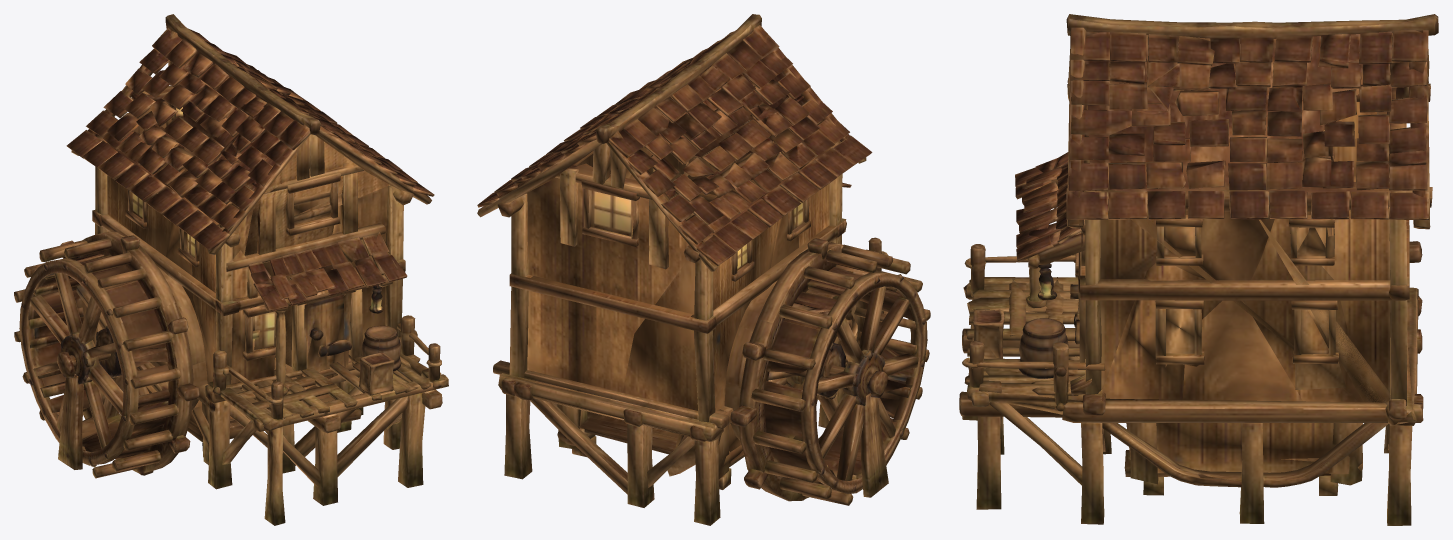
Rendered from mill-house.glb.
The picture shows the model from 3 angles, left to right: view 1: azimuth 30°, elevation 25°; view 2: azimuth 150°, elevation 25°; view 3: azimuth 270°, elevation 25°; orthographic projection. The views are drawn at different scales.
Visible parts, largest first — view 1: mill-house_LOD0; view 2: mill-house_LOD0; view 3: mill-house_LOD0.
Part boxes in pixels (x1,y1,x2,y2): mill-house_LOD0: [14, 14, 448, 525]; mill-house_LOD0: [477, 14, 930, 525]; mill-house_LOD0: [959, 14, 1438, 525].
Size of what is drawn, in the model's own units: 0.8779 by 0.9983 by 0.948.
Materials: 1 (1 with a texture image).
